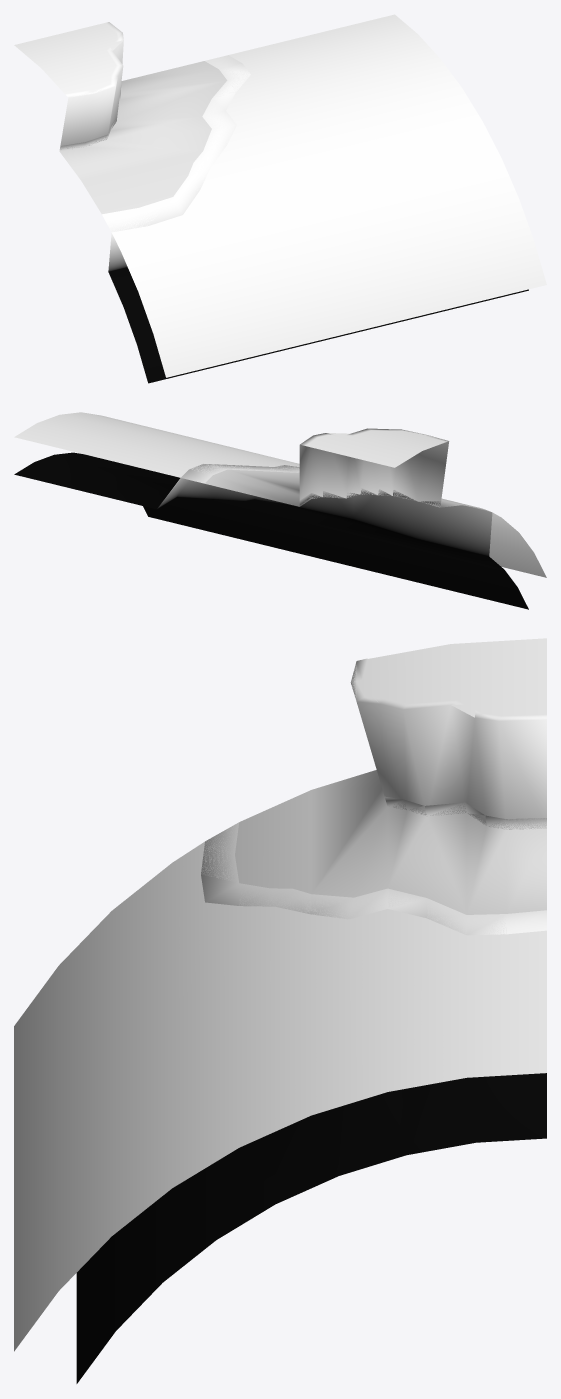
The model's file is grd_Mse_c_0.dae.
The picture shows the model from 3 angles, top to bottom: view 1: azimuth 30°, elevation 25°; view 2: azimuth 150°, elevation 25°; view 3: azimuth 270°, elevation 25°; orthographic projection. The views are drawn at different scales.
Parts seen in each view (by area): view 1: ocean_4_0, beach_0_0, wave_5_0, beach_1_0, grass_3_0, cliff_2_0; view 2: beach_1_0, ocean_4_0, cliff_2_0, grass_3_0, beach_0_0, wave_5_0; view 3: ocean_4_0, beach_1_0, beach_0_0, cliff_2_0, grass_3_0, wave_5_0.
Boxes of the visible parts, <box> form: ocean_4_0: <box>103,14,546,377</box>; beach_0_0: <box>59,61,227,214</box>; wave_5_0: <box>102,38,369,333</box>; beach_1_0: <box>102,55,528,383</box>; grass_3_0: <box>14,23,123,97</box>; cliff_2_0: <box>60,22,123,149</box>; beach_1_0: <box>14,452,528,609</box>; ocean_4_0: <box>14,412,546,577</box>; cliff_2_0: <box>299,428,449,507</box>; grass_3_0: <box>306,430,446,467</box>; beach_0_0: <box>205,469,479,507</box>; wave_5_0: <box>85,434,504,520</box>; ocean_4_0: <box>14,822,546,1351</box>; beach_1_0: <box>76,822,546,1383</box>; beach_0_0: <box>235,770,546,914</box>; cliff_2_0: <box>350,658,546,829</box>; grass_3_0: <box>351,638,546,717</box>; wave_5_0: <box>58,843,546,1036</box>.
Size of the model in its own units: 512 by 308 by 354.
Materials: 6 (1 with a texture image).
